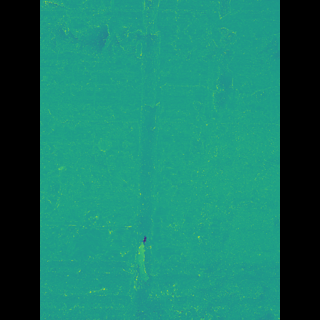Loch: (71, 100, 250, 319), (179, 0, 228, 251), (135, 0, 164, 320)
